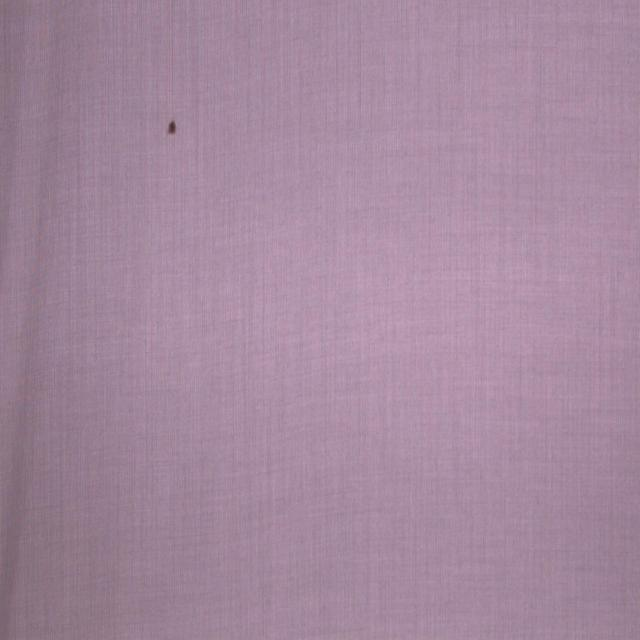dirty: (167, 121, 178, 135)
